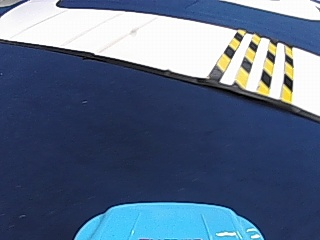bump: (205, 28, 299, 97)
